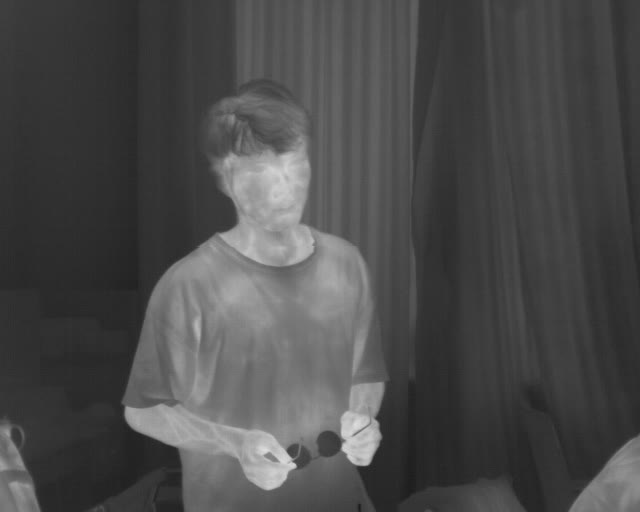face: (199, 78, 315, 234)
